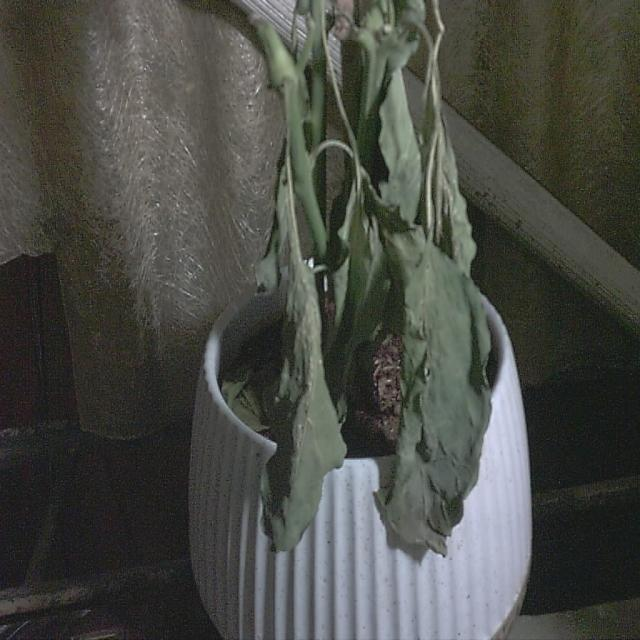Leaf: (376, 186, 494, 561), (258, 171, 348, 556)
